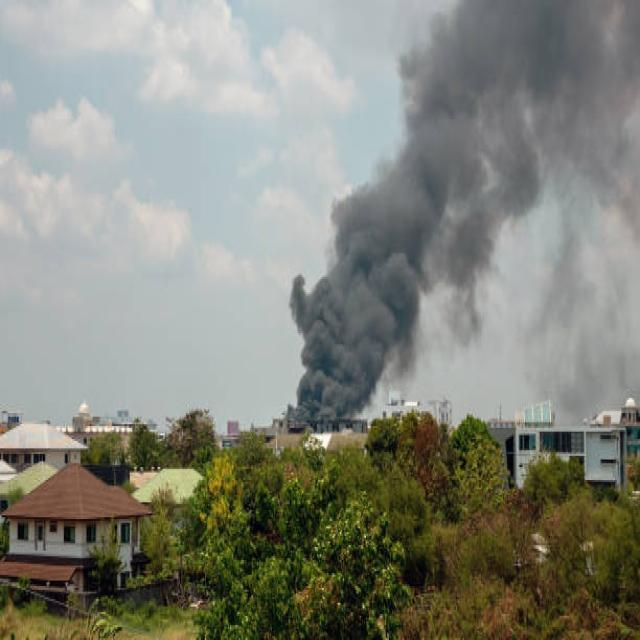Smoke: (284, 0, 613, 426)
